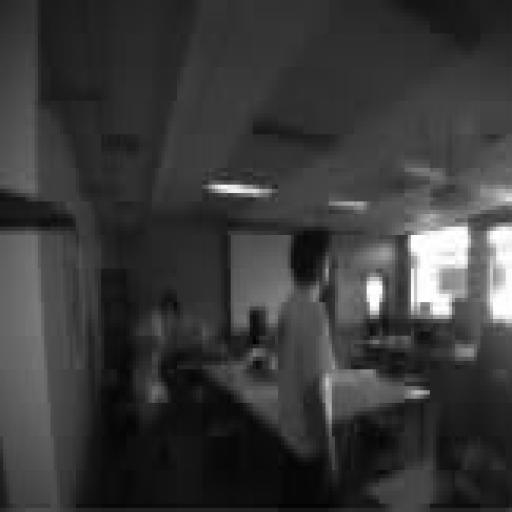human: (279, 227, 338, 507), (133, 290, 180, 423)
